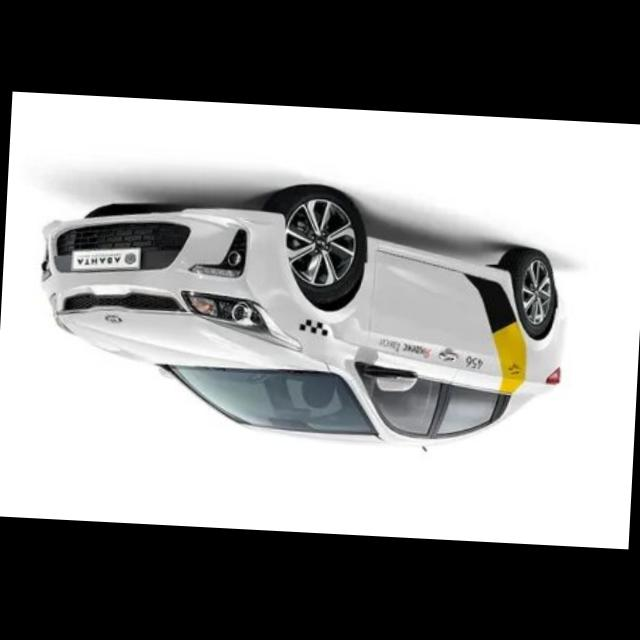taxi: (32, 172, 575, 461)
